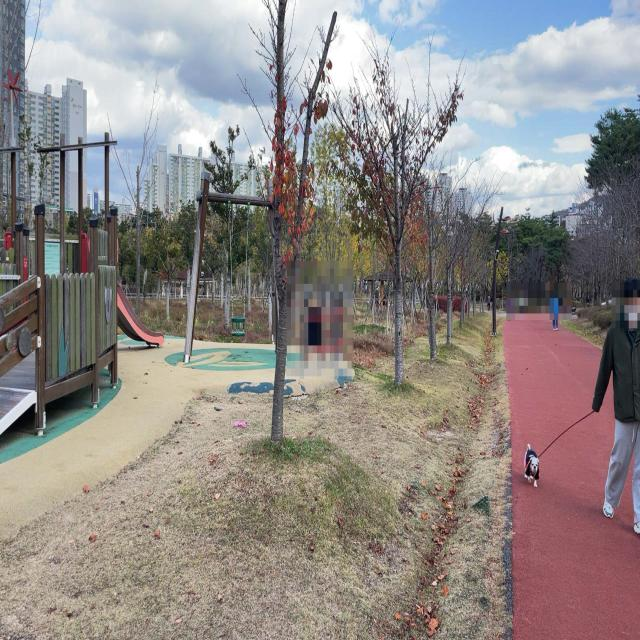Leashed_Dog: (524, 398, 630, 488)
